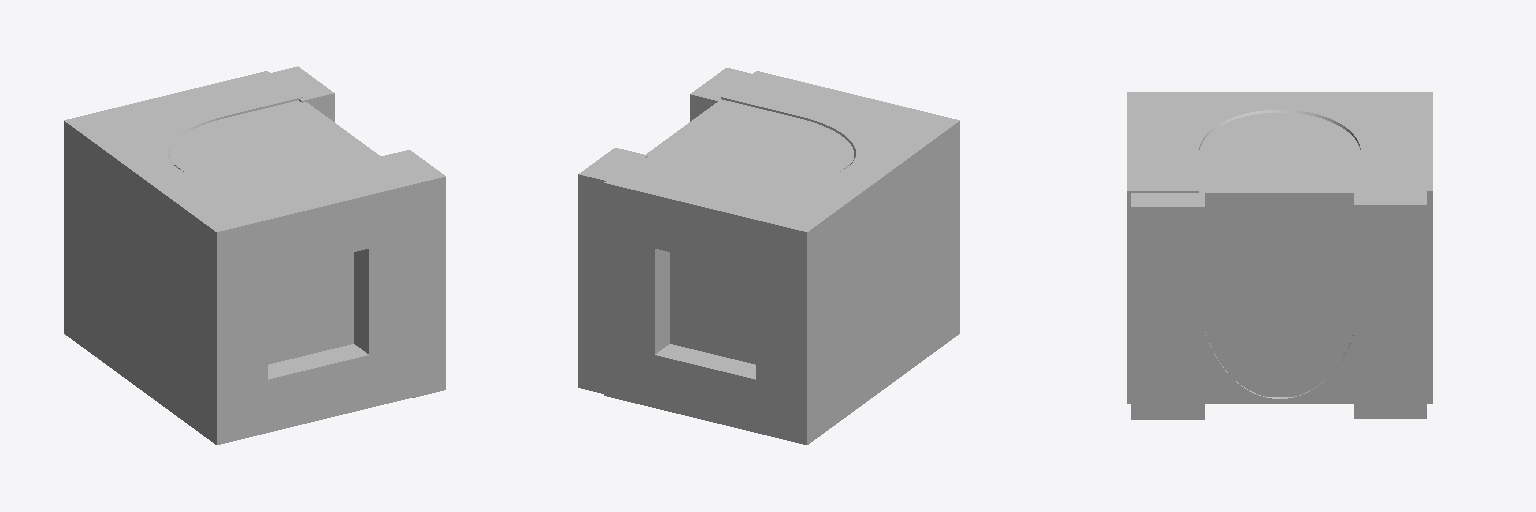
File: spoon_mount.obj
3 renders of one model, left to right at view 1: azimuth 30°, elevation 25°; view 2: azimuth 150°, elevation 25°; view 3: azimuth 270°, elevation 25°, orthographic.
Parts seen in each view (by area): view 1: spoon_mount; view 2: spoon_mount; view 3: spoon_mount.
Boxes of the visible parts, x1=… form: spoon_mount: x1=64, y1=66, x2=445, y2=444; spoon_mount: x1=578, y1=68, x2=959, y2=444; spoon_mount: x1=1127, y1=92, x2=1432, y2=419.
Bounding box in the file's own units: 0.0437 × 0.0389 × 0.05.